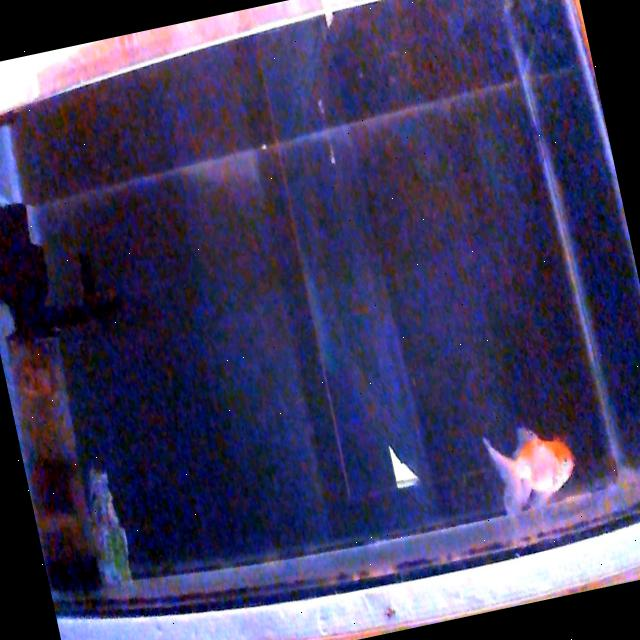fish: (482, 414, 584, 516)
